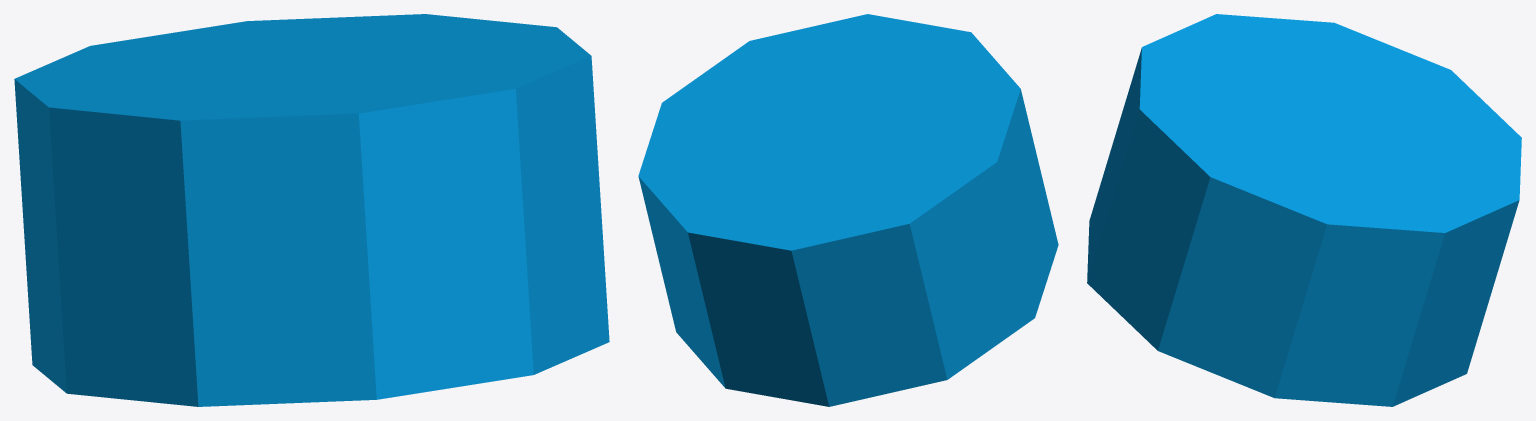
File: group1705510684_lev3.glb
3 views of the same model, side by side, from view 1: azimuth 30°, elevation 25°; view 2: azimuth 150°, elevation 25°; view 3: azimuth 270°, elevation 25° (orthographic). The views are drawn at different scales.
Visible parts, largest first — view 1: group1705510684_lev3; view 2: group1705510684_lev3; view 3: group1705510684_lev3.
Part boxes in pixels (box(x1,y1,x2,y2)): group1705510684_lev3: box(14, 14, 609, 406); group1705510684_lev3: box(638, 14, 1058, 406); group1705510684_lev3: box(1087, 14, 1521, 406).
Size of the model in its own units: 0.5687 by 0.4107 by 0.5782.
